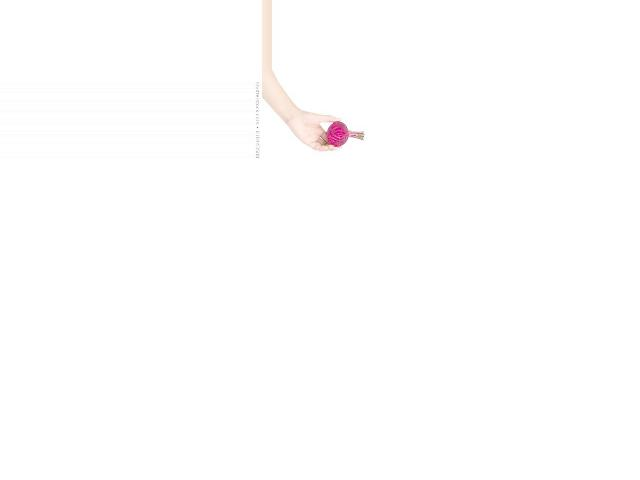beet: (325, 121, 364, 147)
